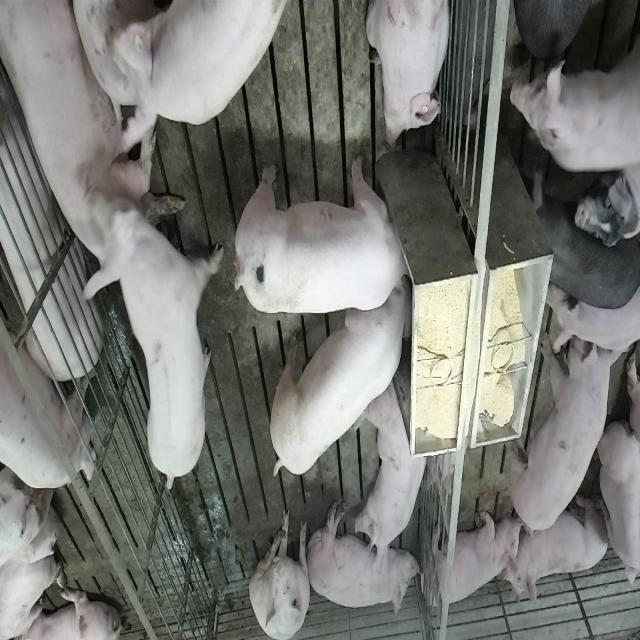Feeding: (264, 280, 412, 480), (240, 156, 418, 316)
Lateral_lying: (306, 499, 422, 618)
Sitting: (250, 506, 312, 638)
Standing: (80, 178, 220, 494), (508, 326, 620, 538), (123, 2, 297, 132), (508, 0, 638, 172), (0, 292, 94, 485), (534, 200, 636, 310), (545, 278, 640, 353), (513, 0, 627, 59)
Sternal_lying: (357, 381, 433, 568), (366, 0, 454, 150), (504, 491, 610, 601), (423, 504, 517, 614)
